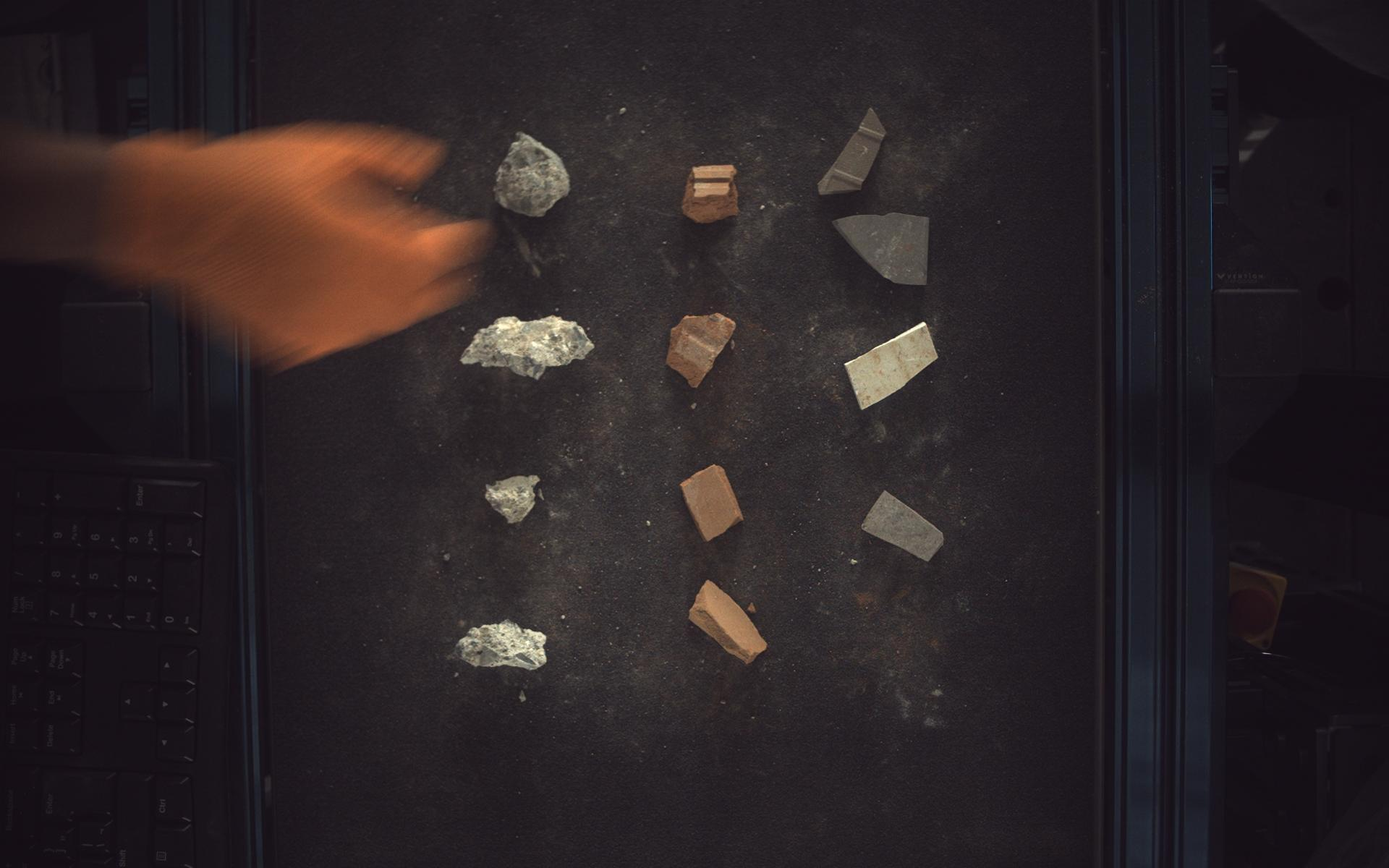brick: (690, 581, 768, 665), (667, 312, 736, 387), (681, 464, 744, 542), (683, 163, 739, 223)
concrete: (461, 315, 595, 379), (494, 131, 570, 216), (454, 621, 547, 671), (486, 475, 540, 524)
tile: (847, 322, 939, 409), (835, 212, 930, 285), (820, 106, 888, 194), (863, 491, 946, 562)
